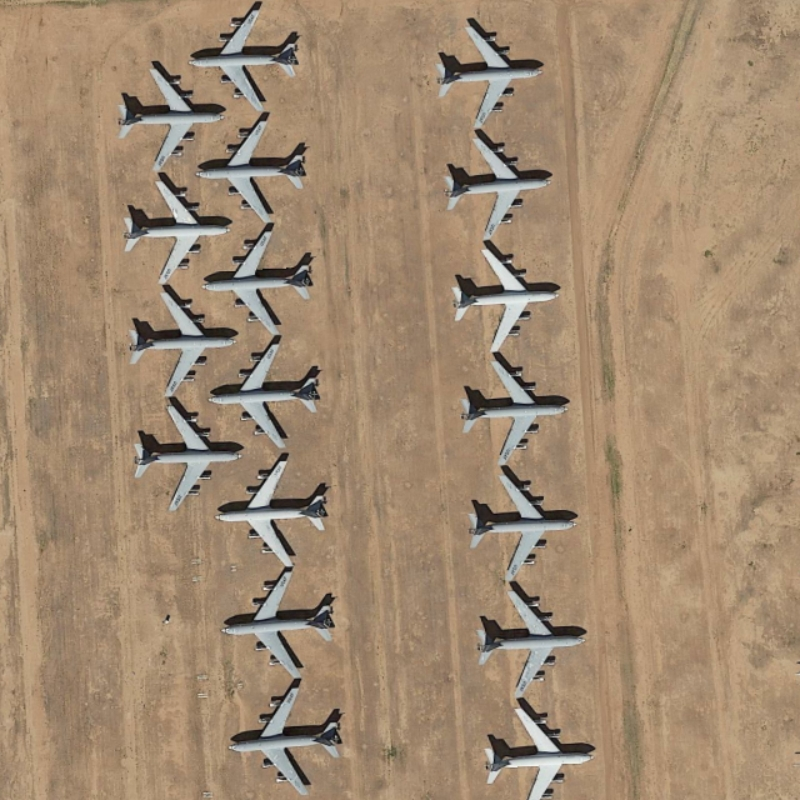A14: (455, 463, 594, 582), (194, 222, 334, 339), (434, 125, 576, 237), (450, 349, 583, 467), (214, 453, 347, 570), (228, 675, 357, 794), (207, 339, 342, 451), (215, 562, 340, 680), (466, 583, 595, 697), (130, 393, 248, 515), (183, 5, 315, 112), (112, 61, 231, 178), (433, 11, 546, 133), (193, 116, 320, 223), (121, 172, 234, 291), (122, 283, 236, 399), (451, 239, 565, 354), (481, 697, 604, 800)
